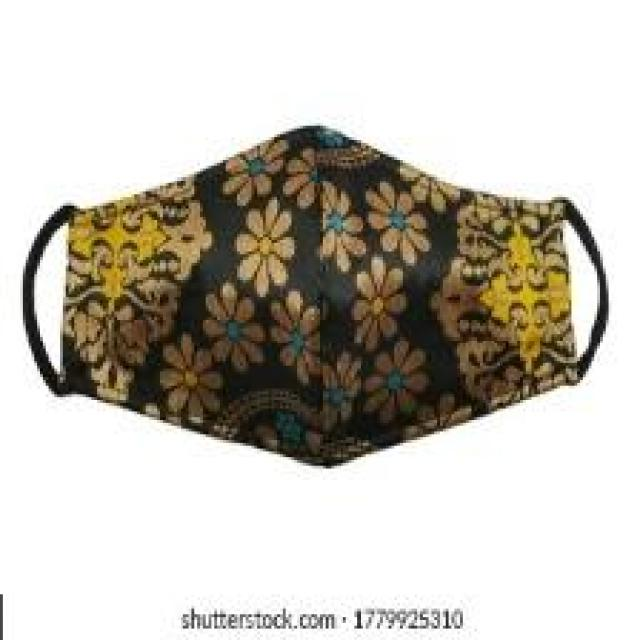Mask: (0, 154, 615, 469)
